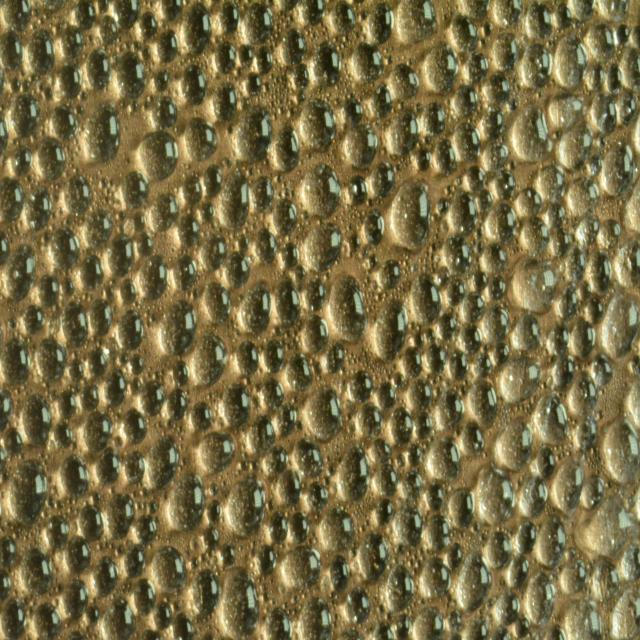dr: (390, 176, 430, 253), (509, 260, 558, 316), (330, 274, 368, 343), (223, 566, 257, 640), (11, 460, 48, 527), (573, 510, 630, 553), (476, 466, 516, 527), (137, 126, 180, 181), (225, 474, 264, 534), (305, 384, 345, 442), (492, 417, 534, 472), (236, 104, 273, 166), (302, 162, 342, 218), (605, 425, 640, 488), (512, 110, 554, 162), (168, 472, 205, 531), (373, 301, 408, 362), (84, 108, 122, 164), (532, 394, 572, 447), (600, 142, 634, 204), (160, 300, 197, 355), (604, 295, 639, 353), (304, 224, 344, 273), (300, 99, 336, 153), (182, 114, 221, 163), (457, 556, 492, 610), (319, 506, 356, 557), (552, 39, 588, 91), (4, 245, 37, 301), (194, 332, 227, 388), (397, 0, 439, 44), (343, 122, 378, 173), (336, 446, 371, 497), (146, 436, 180, 488), (153, 545, 187, 596), (517, 42, 553, 90), (498, 359, 540, 400), (220, 171, 249, 230), (102, 594, 139, 640), (240, 284, 272, 337), (426, 434, 462, 481), (282, 547, 322, 589), (467, 380, 501, 428), (423, 43, 458, 89), (197, 434, 237, 474), (183, 4, 212, 58), (116, 50, 146, 102), (22, 394, 52, 446), (610, 588, 640, 640), (537, 513, 564, 570), (311, 38, 341, 89), (386, 112, 420, 157), (358, 531, 388, 581), (562, 604, 603, 640), (270, 126, 300, 175), (559, 125, 593, 168), (274, 276, 302, 328), (527, 574, 555, 626), (351, 41, 384, 85), (22, 550, 52, 598), (552, 464, 583, 510), (299, 597, 332, 640), (441, 236, 474, 279), (412, 276, 442, 323), (2, 338, 32, 384), (38, 337, 68, 383), (448, 192, 478, 238), (422, 558, 451, 605), (545, 97, 586, 130), (534, 162, 566, 204), (243, 2, 274, 45), (149, 192, 180, 235), (485, 202, 516, 245), (449, 13, 479, 57), (138, 258, 170, 299), (60, 301, 89, 346), (202, 282, 232, 325), (61, 453, 89, 499), (568, 178, 600, 218), (11, 95, 40, 139), (37, 137, 66, 181), (386, 567, 415, 611), (614, 239, 640, 288), (451, 122, 482, 163), (50, 227, 80, 269), (0, 177, 26, 225), (292, 437, 324, 476), (524, 2, 552, 46), (252, 225, 280, 268), (223, 384, 251, 427), (570, 372, 598, 415), (193, 570, 219, 616), (388, 400, 414, 446), (450, 486, 476, 532), (28, 30, 55, 74), (106, 494, 134, 536), (590, 562, 620, 601), (85, 49, 112, 92), (301, 314, 330, 354), (83, 411, 112, 451), (180, 65, 208, 106), (66, 176, 94, 217), (396, 505, 424, 546), (368, 1, 394, 44), (415, 603, 445, 640), (110, 232, 134, 278), (50, 104, 79, 142), (200, 234, 228, 273), (286, 354, 313, 394), (247, 417, 277, 453), (569, 321, 596, 361), (439, 389, 464, 432), (343, 587, 372, 624), (93, 555, 119, 596), (122, 170, 150, 208), (27, 187, 51, 231), (388, 66, 419, 100), (512, 314, 541, 350), (424, 513, 450, 553), (520, 221, 552, 253), (32, 604, 60, 640), (588, 251, 612, 293), (592, 95, 617, 135), (4, 597, 27, 640), (370, 160, 396, 198), (84, 211, 112, 246), (419, 103, 447, 138), (280, 29, 307, 65), (121, 408, 148, 444), (432, 140, 459, 176), (214, 82, 237, 124), (63, 580, 89, 617), (461, 290, 487, 327), (81, 504, 106, 542), (67, 535, 92, 573), (483, 306, 509, 342), (562, 558, 588, 594), (2, 0, 32, 31), (277, 468, 302, 505), (489, 528, 511, 570), (119, 309, 142, 349), (264, 606, 291, 640), (0, 32, 24, 70), (90, 296, 112, 337), (96, 449, 121, 485), (521, 483, 550, 514), (482, 104, 506, 141), (494, 34, 518, 71), (330, 1, 356, 35), (588, 28, 614, 62), (545, 321, 570, 356), (227, 253, 250, 291), (60, 24, 84, 60), (151, 97, 178, 129), (141, 380, 165, 416), (460, 425, 486, 458), (481, 241, 507, 274), (58, 62, 81, 99), (235, 340, 260, 374), (453, 84, 478, 118), (104, 371, 128, 406), (494, 0, 524, 28), (262, 446, 289, 477), (515, 186, 542, 217), (328, 553, 350, 591), (373, 464, 399, 496), (505, 555, 531, 587), (37, 273, 60, 309), (122, 451, 145, 487), (217, 1, 241, 35), (80, 256, 104, 290), (172, 254, 196, 288), (465, 51, 489, 85), (123, 546, 149, 577), (156, 29, 179, 64), (491, 171, 516, 203), (263, 338, 285, 374), (46, 518, 70, 551), (482, 143, 509, 172), (114, 0, 140, 30), (493, 593, 519, 623), (402, 346, 428, 376), (252, 176, 273, 213), (597, 219, 622, 250), (350, 370, 374, 402), (556, 287, 580, 319), (134, 579, 155, 615), (262, 377, 284, 411), (308, 481, 330, 515), (360, 403, 382, 437), (410, 377, 432, 411), (616, 90, 636, 127), (179, 214, 200, 249), (372, 84, 393, 119), (379, 255, 400, 290), (373, 497, 398, 526), (306, 278, 326, 314), (137, 512, 157, 548), (398, 471, 422, 501), (191, 402, 214, 433), (590, 354, 613, 385), (214, 42, 236, 74), (515, 522, 537, 554), (623, 51, 640, 92), (203, 165, 224, 198), (576, 420, 598, 451), (377, 378, 397, 412), (9, 146, 33, 174), (277, 403, 298, 435), (73, 2, 96, 31), (485, 74, 508, 103), (567, 0, 596, 23), (427, 342, 446, 377), (182, 175, 202, 208), (87, 346, 107, 379), (168, 387, 188, 420), (627, 377, 640, 427), (623, 544, 640, 582), (22, 306, 45, 334), (626, 187, 640, 233), (99, 15, 119, 47), (268, 512, 288, 544), (346, 176, 368, 205), (288, 511, 310, 540), (552, 356, 574, 385), (599, 0, 628, 22), (323, 344, 344, 374), (170, 610, 191, 640), (302, 0, 326, 26), (466, 613, 489, 640), (57, 389, 77, 420), (460, 0, 491, 20), (581, 477, 604, 503), (257, 544, 276, 575), (340, 96, 360, 125), (438, 311, 456, 343), (566, 249, 584, 281), (280, 241, 300, 269), (53, 421, 73, 449), (426, 482, 446, 510), (551, 229, 571, 257), (585, 295, 604, 324), (0, 390, 14, 429), (140, 10, 158, 40), (460, 326, 480, 353), (204, 496, 223, 524), (370, 618, 394, 640), (465, 168, 487, 192), (584, 66, 606, 90), (576, 217, 597, 242), (474, 353, 494, 379), (171, 360, 190, 387), (556, 2, 572, 34), (415, 408, 432, 438), (544, 204, 566, 227), (255, 48, 273, 76), (1, 539, 19, 567), (80, 384, 100, 409), (244, 72, 263, 98), (292, 64, 311, 90), (415, 148, 434, 174), (4, 430, 22, 456), (371, 440, 392, 462), (492, 340, 511, 364), (154, 602, 172, 627), (451, 351, 467, 379), (538, 450, 554, 478), (606, 66, 622, 94), (488, 272, 505, 298), (0, 228, 10, 271), (238, 44, 254, 70), (153, 68, 170, 92), (120, 280, 137, 304), (162, 1, 183, 20), (446, 283, 464, 305), (586, 153, 603, 176), (396, 612, 411, 638), (0, 571, 11, 606), (68, 358, 84, 382), (436, 265, 451, 290), (489, 624, 512, 640), (448, 540, 460, 570), (204, 526, 218, 551), (0, 112, 7, 160), (138, 234, 154, 255), (546, 624, 567, 640), (62, 277, 76, 299), (409, 444, 422, 467), (130, 355, 144, 375), (222, 544, 236, 564), (474, 271, 488, 291), (478, 190, 492, 210), (279, 0, 302, 12), (46, 314, 61, 332), (142, 625, 160, 640), (132, 212, 146, 231), (201, 202, 215, 221), (110, 52, 122, 74), (628, 28, 640, 50), (43, 0, 63, 13), (348, 233, 361, 253), (86, 603, 98, 624), (448, 612, 462, 630), (436, 197, 449, 215), (515, 617, 530, 632), (393, 372, 407, 388), (562, 544, 576, 560), (409, 334, 426, 347), (295, 264, 306, 284), (130, 377, 142, 395), (10, 76, 21, 95), (617, 26, 629, 43), (238, 234, 249, 252), (312, 360, 324, 376), (628, 358, 640, 374), (141, 45, 152, 62), (240, 96, 251, 112), (0, 445, 6, 473), (0, 65, 5, 98), (43, 87, 54, 102), (50, 189, 61, 204), (369, 252, 379, 268), (578, 283, 590, 296), (98, 0, 109, 14), (238, 459, 249, 472), (296, 90, 306, 104), (21, 79, 30, 94), (426, 329, 435, 344), (106, 284, 114, 300), (120, 352, 128, 368), (48, 74, 57, 88), (476, 242, 485, 256), (74, 104, 84, 116), (272, 324, 282, 336), (398, 453, 406, 468), (508, 99, 518, 111), (130, 100, 138, 114), (252, 395, 260, 409), (484, 22, 492, 36), (478, 38, 488, 49), (288, 108, 297, 120), (9, 316, 17, 329), (92, 493, 100, 506), (348, 421, 356, 433), (211, 484, 219, 496), (115, 545, 124, 555), (251, 460, 260, 470), (509, 160, 518, 170), (133, 41, 141, 52), (148, 502, 156, 513), (136, 499, 143, 511), (360, 10, 368, 20), (99, 179, 107, 189), (192, 289, 200, 299), (254, 382, 262, 392), (114, 436, 122, 446), (44, 232, 51, 243), (341, 381, 348, 392), (473, 524, 480, 535), (263, 80, 269, 92), (297, 421, 305, 430), (81, 90, 88, 100), (113, 304, 120, 314), (51, 390, 58, 400), (598, 136, 605, 146), (33, 8, 40, 17), (38, 82, 45, 91), (34, 74, 43, 81), (74, 166, 81, 175), (541, 380, 548, 389), (30, 74, 36, 84), (228, 124, 234, 134), (324, 272, 330, 282), (82, 291, 88, 301), (154, 370, 160, 380), (399, 100, 405, 110), (424, 135, 430, 145), (237, 69, 244, 77), (144, 101, 151, 109), (66, 216, 71, 227), (118, 44, 124, 53), (278, 106, 284, 115), (119, 211, 125, 220), (66, 169, 72, 178), (48, 498, 54, 507), (57, 499, 62, 509), (247, 169, 254, 176), (74, 57, 80, 65), (26, 175, 32, 183), (51, 222, 57, 230), (51, 211, 57, 219), (415, 103, 421, 111), (458, 176, 463, 185), (306, 152, 313, 158), (368, 199, 374, 206), (125, 157, 131, 164), (39, 18, 44, 26), (272, 113, 277, 121), (226, 159, 231, 167), (285, 188, 290, 196), (77, 144, 82, 152), (252, 222, 257, 230), (90, 294, 95, 302), (598, 411, 603, 419), (126, 41, 130, 50), (73, 350, 79, 356), (276, 33, 281, 40), (341, 42, 346, 49), (348, 223, 353, 230), (270, 44, 274, 52), (276, 22, 280, 30), (80, 124, 84, 132), (10, 236, 14, 244), (247, 376, 251, 384), (32, 22, 37, 28), (270, 102, 275, 108), (59, 208, 64, 214), (23, 384, 28, 390), (90, 35, 94, 42), (286, 21, 290, 28), (276, 76, 280, 83), (142, 376, 146, 383), (348, 413, 352, 420), (396, 165, 400, 172), (328, 465, 332, 472), (448, 186, 452, 193), (112, 279, 117, 284), (46, 13, 50, 19), (290, 16, 294, 22), (150, 94, 154, 100), (105, 198, 109, 204), (292, 190, 296, 196), (74, 150, 78, 156), (147, 320, 150, 328), (152, 314, 155, 322), (16, 412, 20, 418), (83, 354, 86, 361), (284, 97, 288, 102), (71, 164, 75, 169), (282, 339, 286, 344), (346, 35, 349, 41), (290, 99, 293, 105), (148, 372, 151, 378), (287, 331, 290, 337), (376, 121, 379, 127), (110, 180, 114, 184), (70, 156, 74, 160), (288, 344, 292, 348), (76, 388, 80, 392), (17, 400, 21, 404), (18, 390, 22, 394), (295, 331, 298, 336), (280, 12, 283, 16), (119, 37, 122, 41), (279, 99, 282, 103), (106, 190, 110, 193), (111, 192, 114, 196), (293, 338, 296, 342), (148, 309, 150, 314), (296, 346, 299, 349), (163, 372, 165, 374)
